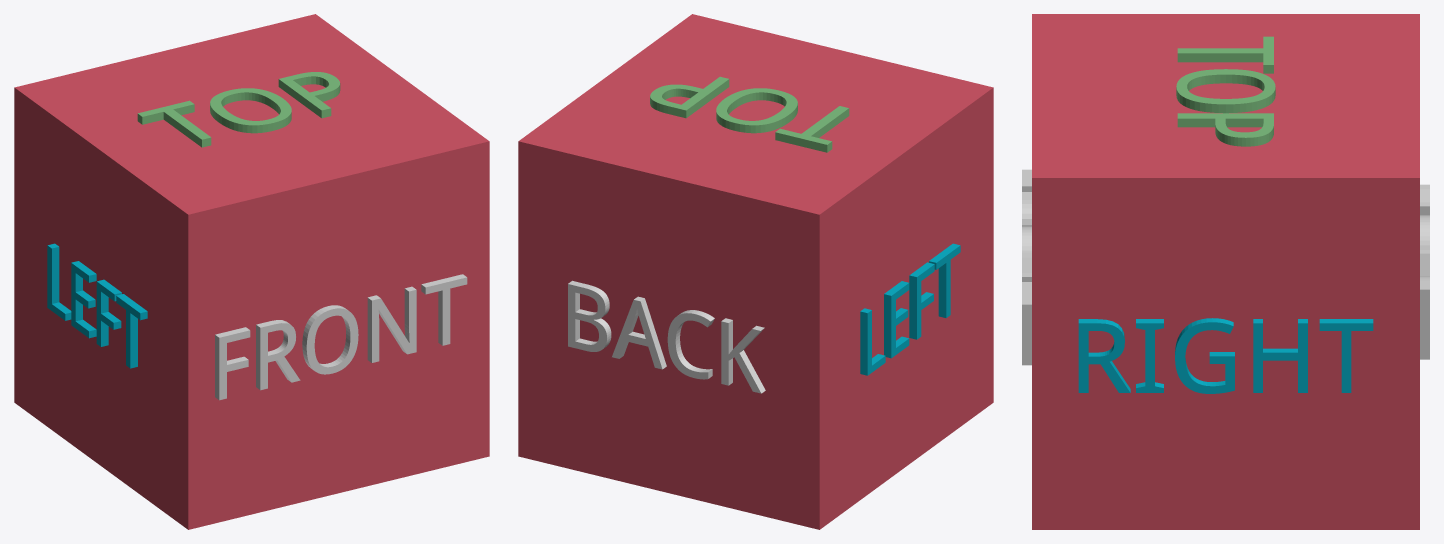
The picture shows the model from 3 angles, left to right: view 1: azimuth 30°, elevation 25°; view 2: azimuth 150°, elevation 25°; view 3: azimuth 270°, elevation 25°; orthographic projection. The views are drawn at different scales.
Visible parts, largest first — view 1: Mesh_Mesh_head_geo.001_lambert2SG.001; view 2: Mesh_Mesh_head_geo.001_lambert2SG.001; view 3: Mesh_Mesh_head_geo.001_lambert2SG.001.
Part boxes in pixels (<box>): Mesh_Mesh_head_geo.001_lambert2SG.001: <box>14,14,489,529</box>; Mesh_Mesh_head_geo.001_lambert2SG.001: <box>518,14,993,529</box>; Mesh_Mesh_head_geo.001_lambert2SG.001: <box>1022,14,1429,529</box>.
Bounding box in the file's own units: 21 × 21 × 21.
